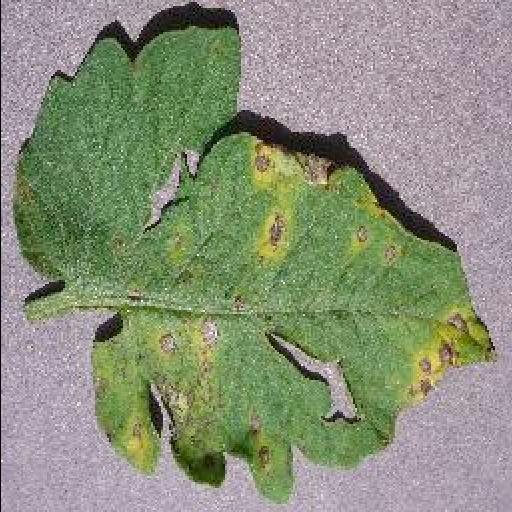disease_tomato: (10, 26, 502, 506)
